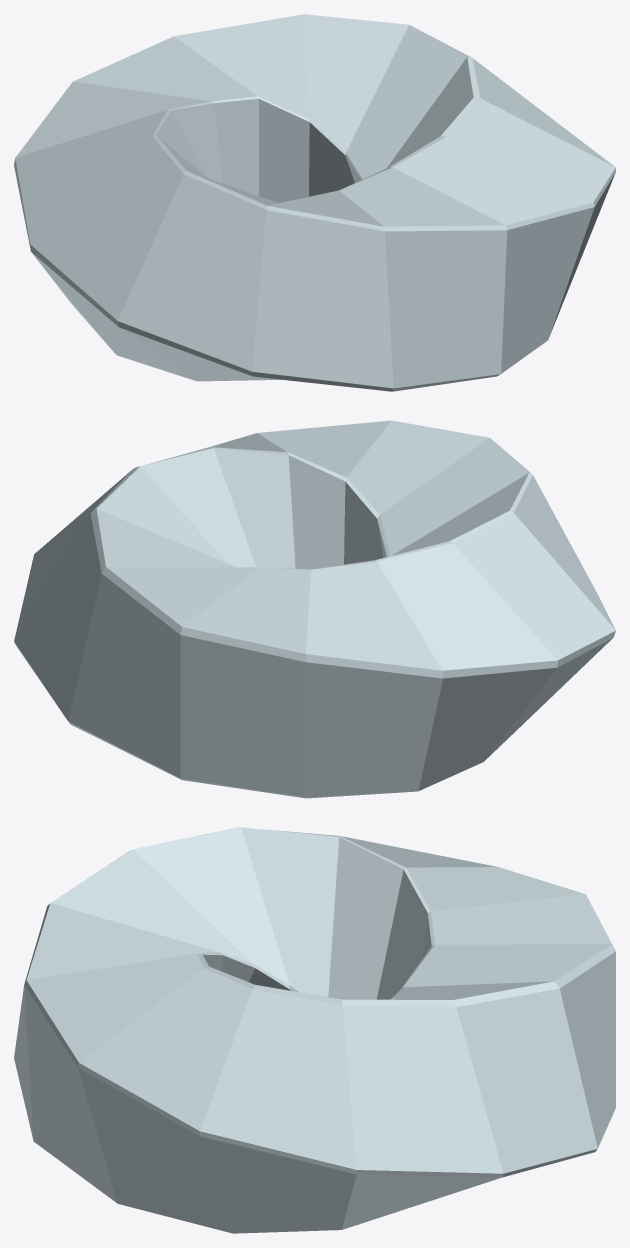
File: mobiusStripV4.gltf
The picture shows the model from 3 angles, top to bottom: view 1: azimuth 30°, elevation 25°; view 2: azimuth 150°, elevation 25°; view 3: azimuth 270°, elevation 25°; orthographic projection. The views are drawn at different scales.
Parts seen in each view (by area): view 1: Cube; view 2: Cube; view 3: Cube.
Boxes of the visible parts, bbox=[...] form: Cube: bbox=[14, 14, 615, 391]; Cube: bbox=[14, 420, 615, 798]; Cube: bbox=[14, 827, 615, 1233].
Size of the model in its own units: 7.16 by 2.78 by 6.54.
